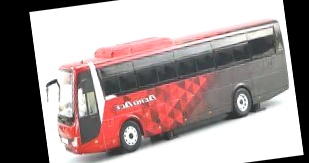bus: (48, 16, 296, 162)
